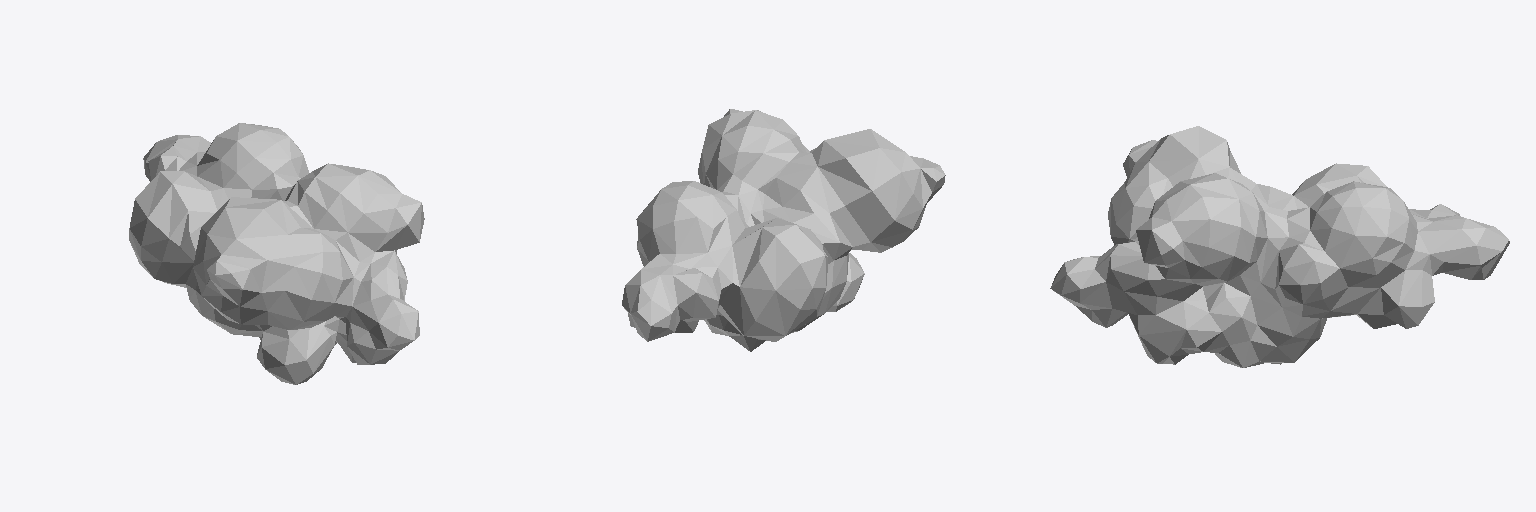
File: cloud-2-low.OBJ
3 views of the same model, side by side, from view 1: azimuth 30°, elevation 25°; view 2: azimuth 150°, elevation 25°; view 3: azimuth 270°, elevation 25° (orthographic).
Visible parts, largest first — view 1: Group47350; view 2: Group47350; view 3: Group47350.
Part boxes in pixels (x1,y1,x2,y2): Group47350: (129, 123, 424, 384); Group47350: (622, 109, 945, 351); Group47350: (1050, 126, 1509, 367).
Bounding box in the file's own units: 5.96 × 5.23 × 10.87.